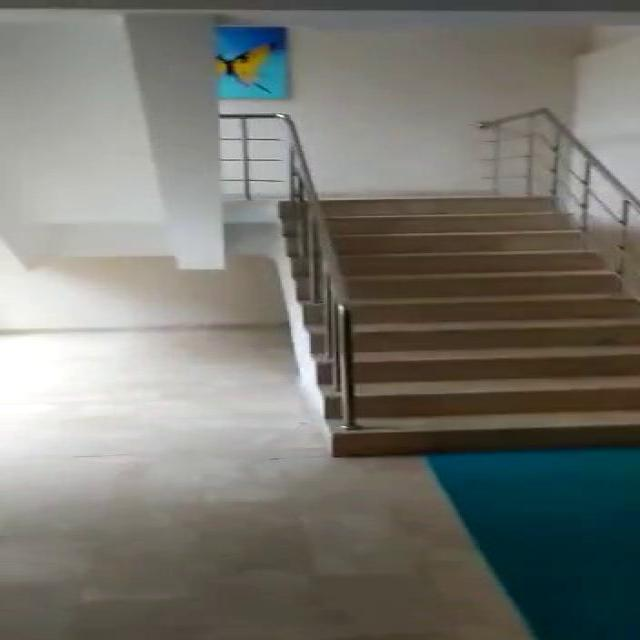stairs: (289, 194, 638, 437)
